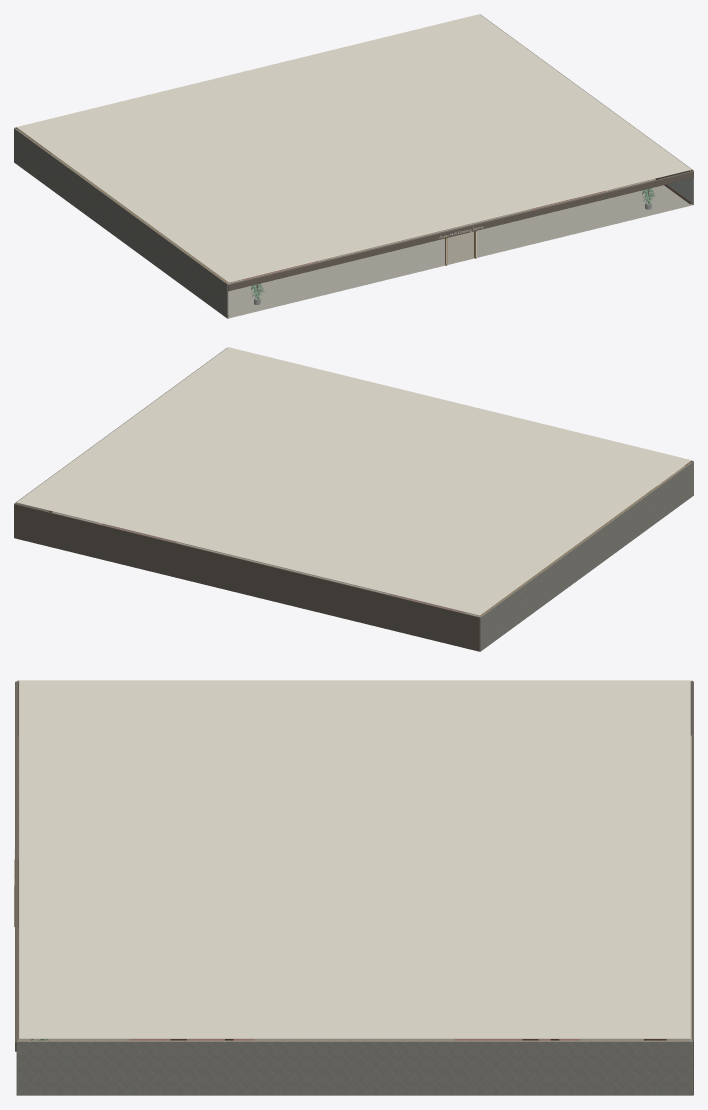
File: hifi.glb
3 renders of one model, top to bottom at view 1: azimuth 30°, elevation 25°; view 2: azimuth 150°, elevation 25°; view 3: azimuth 270°, elevation 25°, orthographic. The views are drawn at different scales.
Visible parts, largest first — view 1: Batched AUR-L3-HIFI::Warm porcelain, Batched AUR-L3-HIFI::Cream marble, Batched AUR-L3-HIFI::Tenant glass, Batched AUR-L3-HIFI::Travertine, Batched AUR-L3-HIFI::Tenant hifi, Batched AUR-L3-HIFI::Bronze; view 2: Batched AUR-L3-HIFI::Warm porcelain, Batched AUR-L3-HIFI::Tenant hifi, Batched AUR-L3-HIFI::Travertine, Batched AUR-L3-HIFI::Cream marble; view 3: Batched AUR-L3-HIFI::Warm porcelain, Batched AUR-L3-HIFI::Travertine, Batched AUR-L3-HIFI::Tenant hifi, Batched AUR-L3-HIFI::Cream marble, Batched AUR-L3-HIFI::Bronze.
Part boxes in pixels (x1,y1,x2,y2): Batched AUR-L3-HIFI::Warm porcelain: (16,14,691,282); Batched AUR-L3-HIFI::Cream marble: (52,154,692,318); Batched AUR-L3-HIFI::Tenant glass: (228,178,692,317); Batched AUR-L3-HIFI::Travertine: (14,14,693,318); Batched AUR-L3-HIFI::Tenant hifi: (14,127,693,291); Batched AUR-L3-HIFI::Bronze: (17,129,690,283); Batched AUR-L3-HIFI::Warm porcelain: (16,347,691,615); Batched AUR-L3-HIFI::Tenant hifi: (14,460,692,651); Batched AUR-L3-HIFI::Travertine: (14,347,693,651); Batched AUR-L3-HIFI::Cream marble: (52,486,656,616); Batched AUR-L3-HIFI::Warm porcelain: (14,680,690,1039); Batched AUR-L3-HIFI::Travertine: (16,680,692,1095); Batched AUR-L3-HIFI::Tenant hifi: (15,681,693,1095); Batched AUR-L3-HIFI::Cream marble: (18,735,691,1040); Batched AUR-L3-HIFI::Bronze: (14,860,688,1040).
Size of the model in its own units: 68.16 by 4.97 by 54.29.
Materials: 12 (4 with a texture image).
